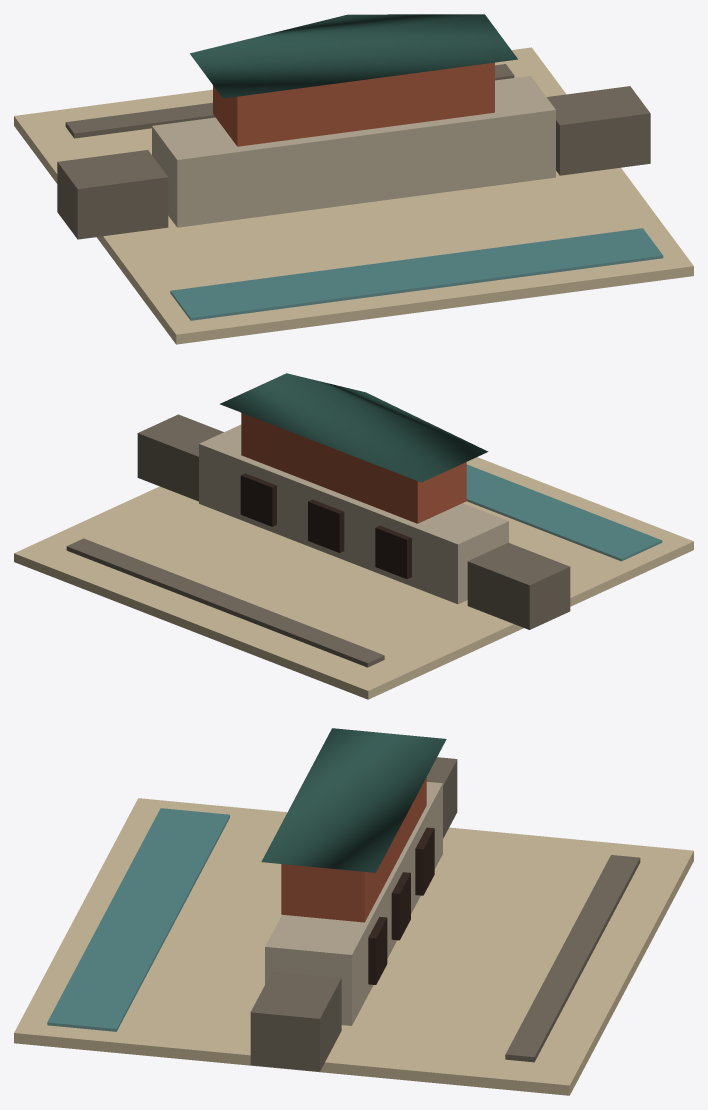
Rendered from model-medium.glb.
3 views of the same model, one above another, from view 1: azimuth 30°, elevation 25°; view 2: azimuth 150°, elevation 25°; view 3: azimuth 270°, elevation 25° (orthographic). The views are drawn at different scales.
Parts seen in each view (by area): view 1: context_site_plinth, city_gate_platform, gatehouse_roof, side_wall_segment (×2), context_water_edge, upper_gatehouse_body, front_scale_strip; view 2: context_site_plinth, city_gate_platform, gatehouse_roof, side_wall_segment (×2), upper_gatehouse_body, context_water_edge, front_scale_strip, arched_gate_opening (×3); view 3: context_site_plinth, context_water_edge, gatehouse_roof, city_gate_platform, side_wall_segment (×2), front_scale_strip, upper_gatehouse_body, arched_gate_opening (×3).
Part boxes in pixels (box(x1,y1,x2,y2)): context_site_plinth: box(14, 47, 693, 344); city_gate_platform: box(152, 76, 555, 227); gatehouse_roof: box(190, 14, 517, 98); side_wall_segment (×2): box(57, 86, 650, 239); context_water_edge: box(170, 228, 663, 320); upper_gatehouse_body: box(213, 62, 494, 146); front_scale_strip: box(65, 64, 514, 138); context_site_plinth: box(14, 457, 693, 699); city_gate_platform: box(199, 424, 508, 604); gatehouse_roof: box(220, 373, 488, 482); side_wall_segment (×2): box(137, 414, 570, 629); upper_gatehouse_body: box(241, 413, 466, 523); context_water_edge: box(466, 464, 662, 561); front_scale_strip: box(66, 538, 384, 667); arched_gate_opening (×3): box(240, 473, 411, 579); context_site_plinth: box(14, 798, 693, 1095); context_water_edge: box(47, 808, 229, 1031); gatehouse_roof: box(261, 728, 446, 872); city_gate_platform: box(265, 782, 442, 1025); side_wall_segment (×2): box(250, 757, 457, 1071); front_scale_strip: box(505, 855, 640, 1062); upper_gatehouse_body: box(281, 777, 426, 922); arched_gate_opening (×3): box(368, 827, 434, 984).
Bounding box in the file's own units: 9.55 × 2.9 × 9.55.
